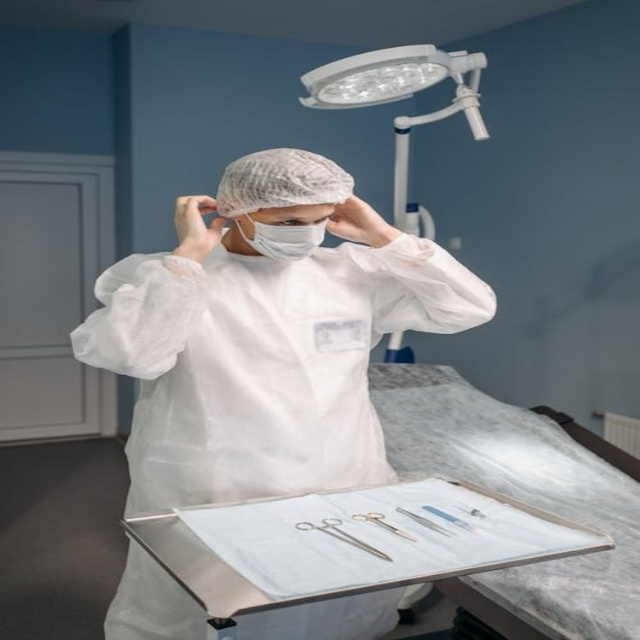Mascara: (237, 212, 329, 261)
Sin_gafas: (257, 208, 334, 226)
Sin_guantes: (154, 185, 232, 258), (324, 190, 396, 250)
